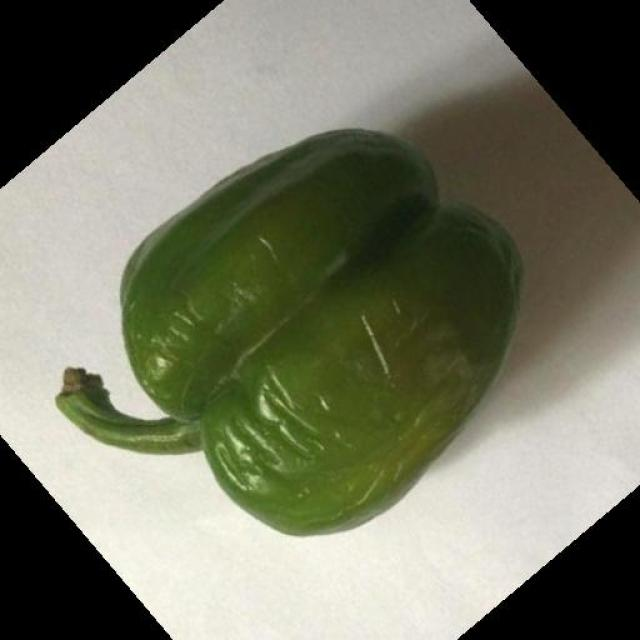Stale_Capsicum: (45, 133, 503, 505)
